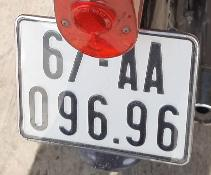0: (26, 83, 52, 134)
6: (84, 87, 113, 144), (38, 28, 66, 82), (155, 99, 180, 153)
7: (68, 41, 87, 89)
9: (124, 95, 150, 149), (56, 87, 81, 141)
A: (141, 38, 170, 95), (114, 37, 139, 92)
